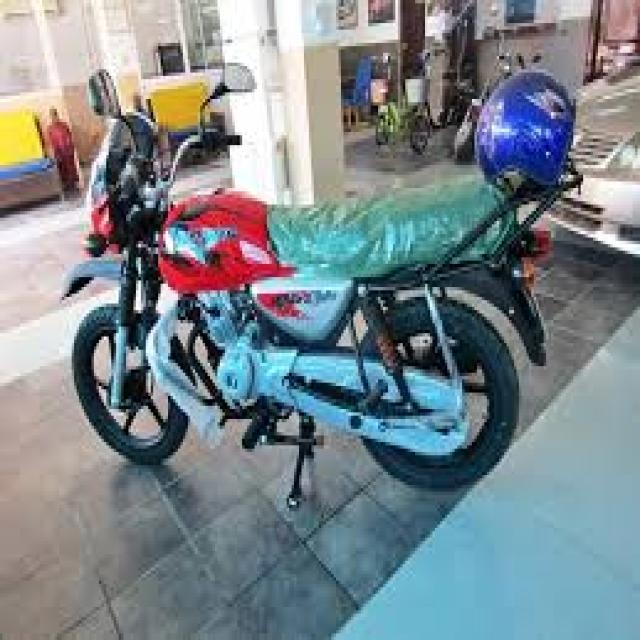bodaboda: (21, 24, 614, 544)
